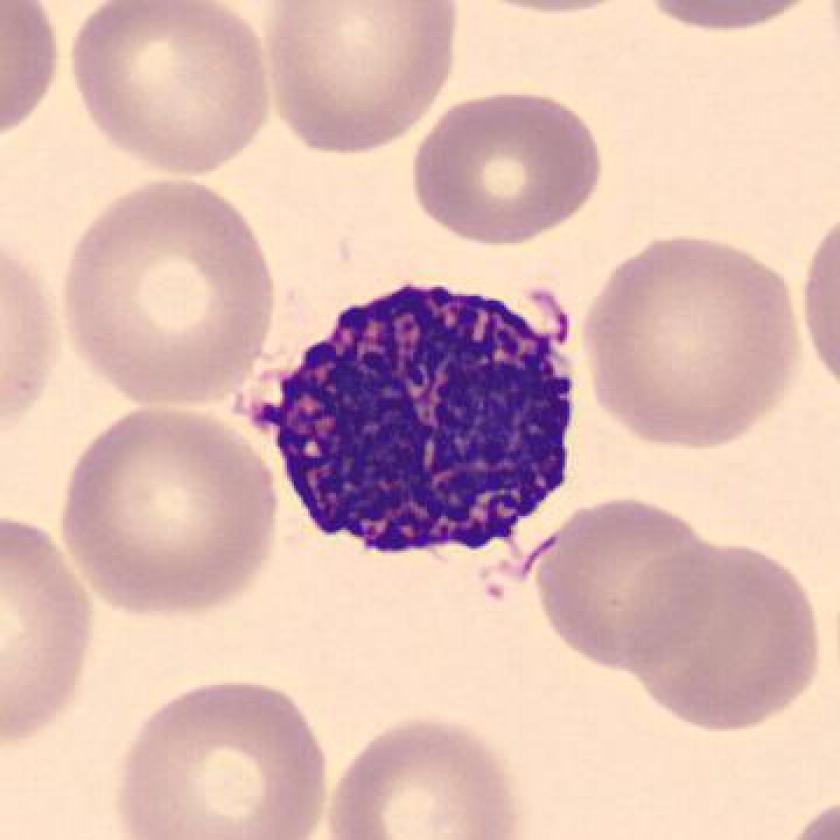basophil: (251, 270, 594, 578)
